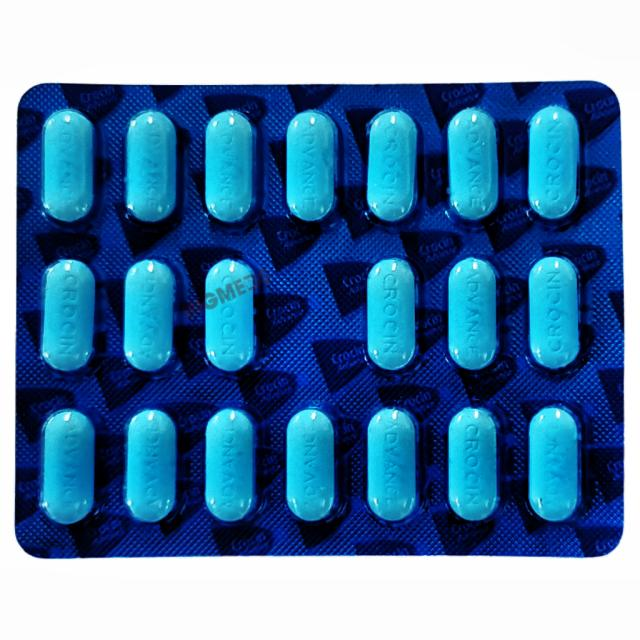Crocin: (23, 89, 616, 548)
